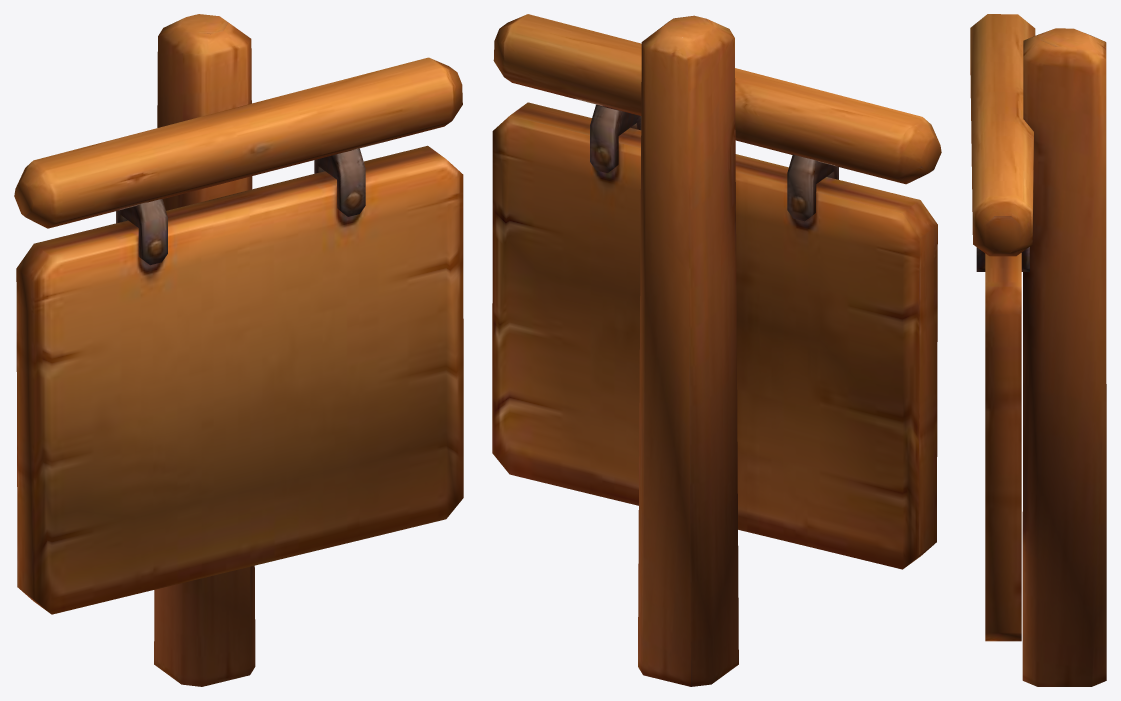
File: billboard.gltf
3 renders of one model, left to right at view 1: azimuth 30°, elevation 25°; view 2: azimuth 150°, elevation 25°; view 3: azimuth 270°, elevation 25°, orthographic.
Visible parts, largest first — view 1: owner.001; view 2: owner.001; view 3: owner.001.
Part boxes in pixels (box(x1,y1,x2,y2)): owner.001: box(14, 14, 463, 686); owner.001: box(492, 14, 941, 686); owner.001: box(970, 14, 1106, 686).
Size of what is drawn, in the model's own units: 2.88 by 4.09 by 0.8001.
Materials: 1 (1 with a texture image).
